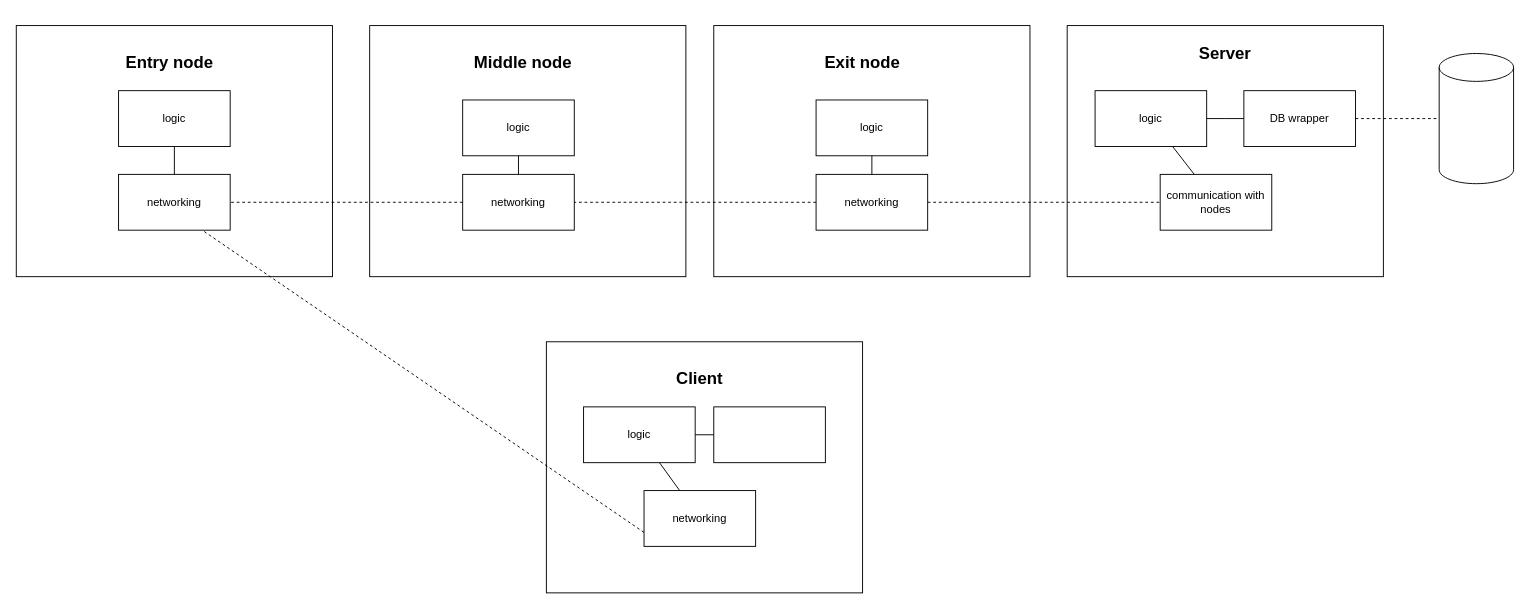
The diagram is 1530 pixels wide and 609 high, and some of its shapes have lost their labels. Each missing label, with the box of its shape:
DB: (1438, 53, 1514, 184)
GUI: (713, 406, 825, 463)
